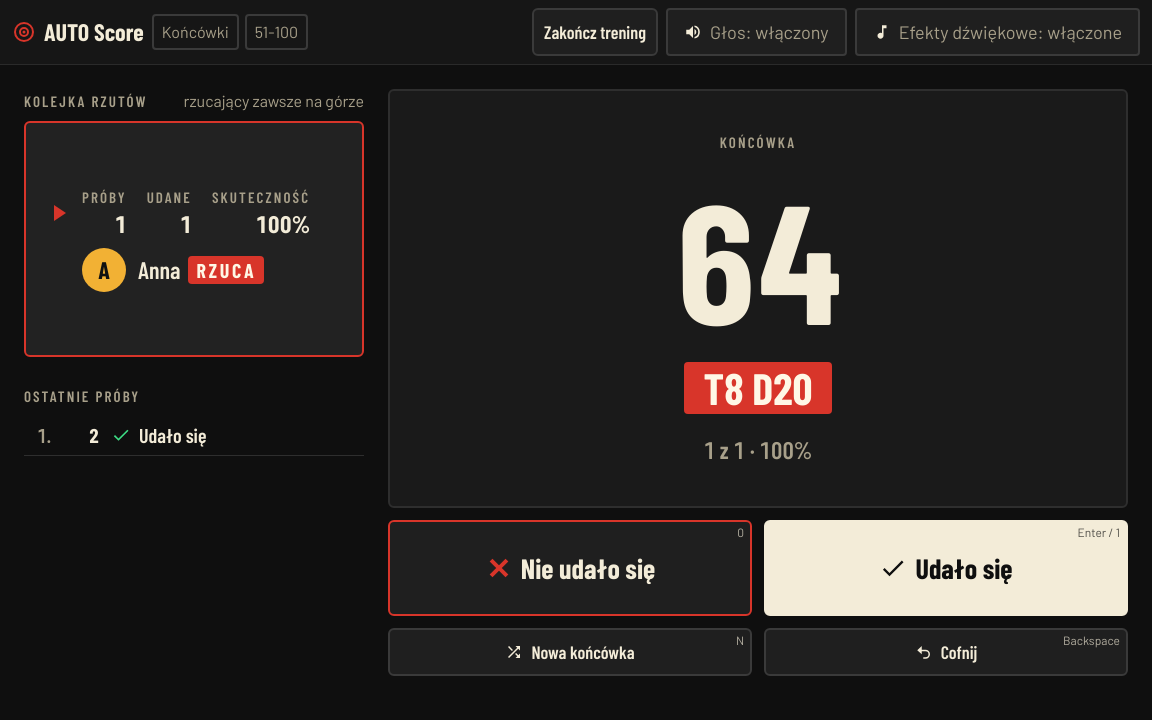
Test: checkout practice › Nowa końcówka › shows the new target and keeps the counter and the recent attempts
expect the text "1 z 1 · 100%" is shown: met, box [704,434,812,466]
Click the button "Nowa końcówka N" at (570, 652), box [388,628,752,676]
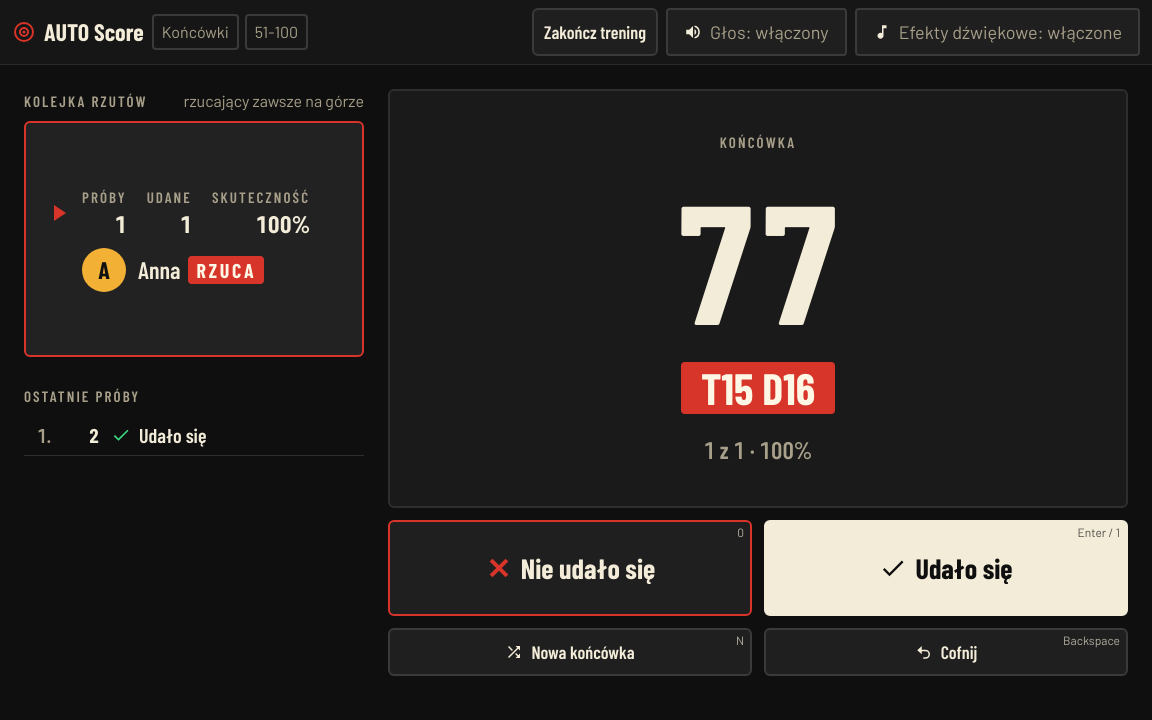
expect the text "1 z 1 · 100%" is shown: met, box [704,434,812,466]
expect the text "77" is shown: met, box [674,174,842,342]
